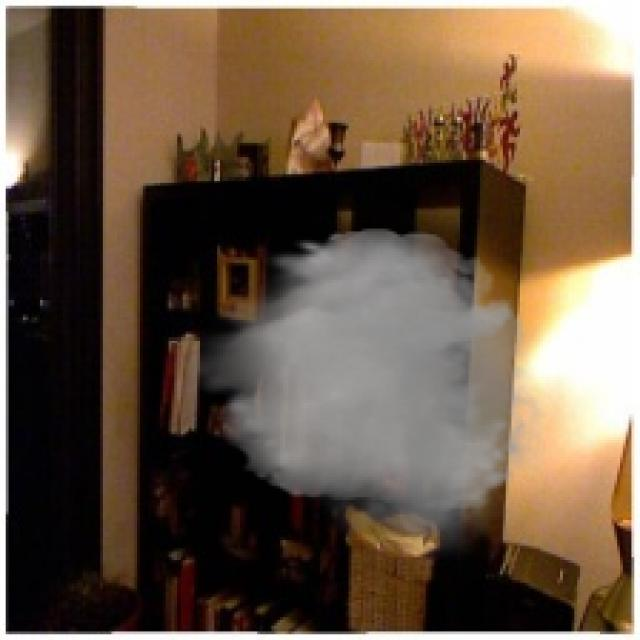smoke: (174, 220, 563, 566)
